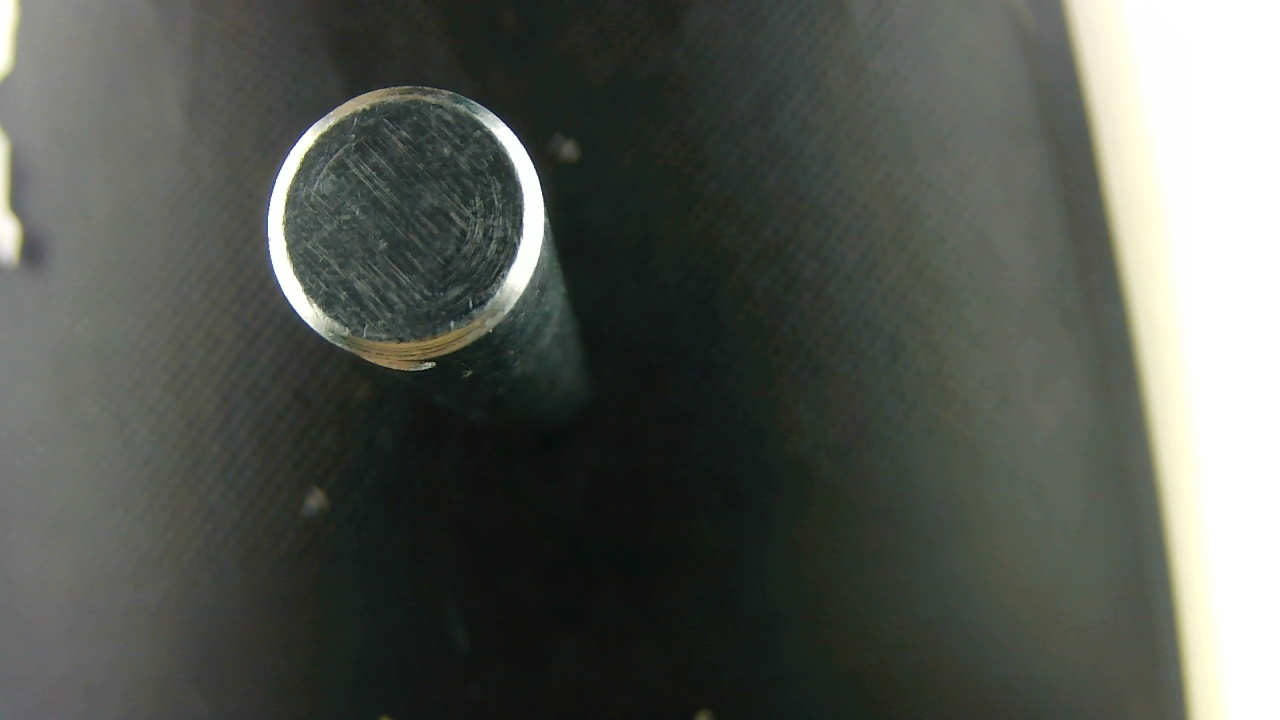Okay_Pin: (268, 86, 590, 449)
